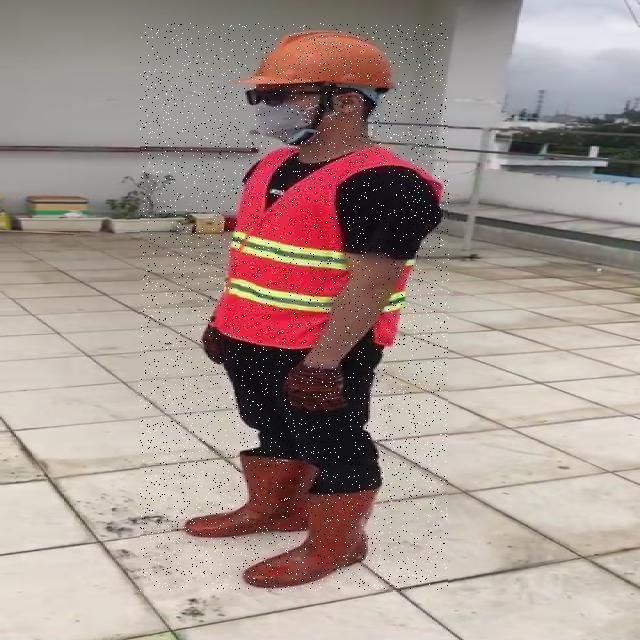helmet: (241, 30, 399, 94)
safety_vest: (220, 143, 449, 348)
